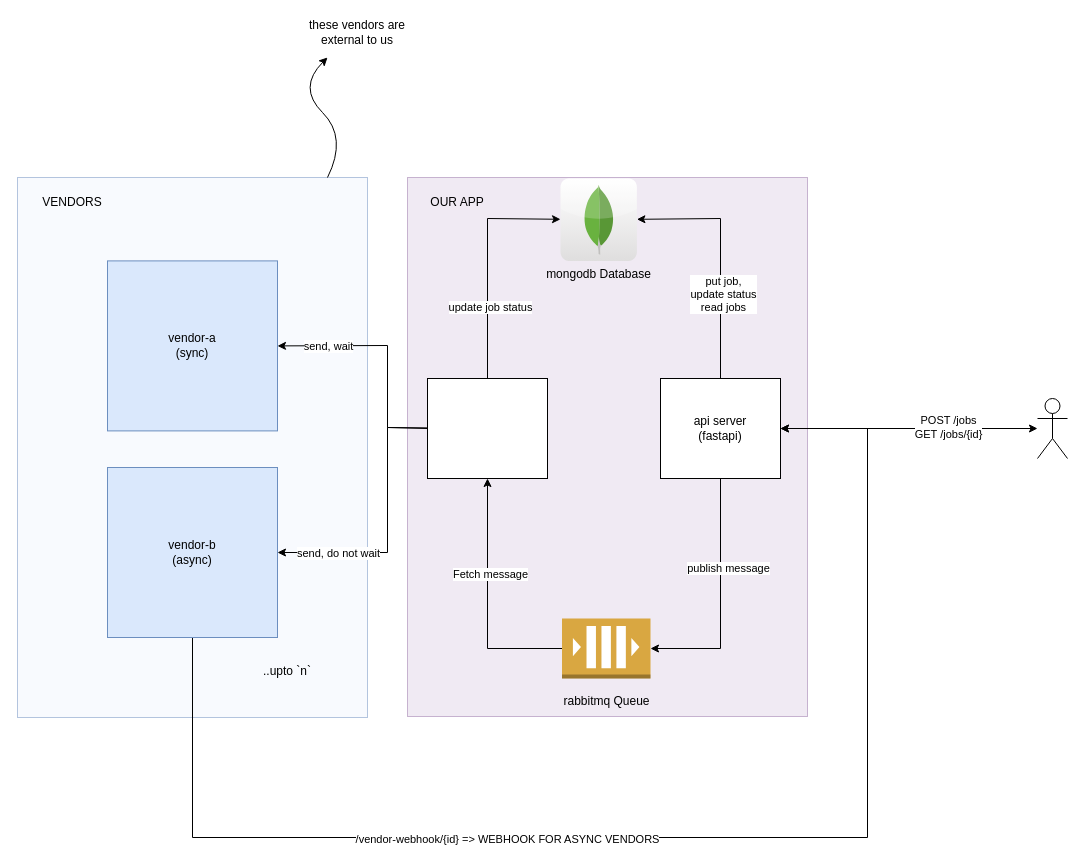
The diagram is 1085 pixels wide and 863 high, and some of its shapes have lost their labels. Each missing label, with the box of its shape:
me: (1036, 398, 1068, 458)
worker (node): (426, 378, 548, 478)
